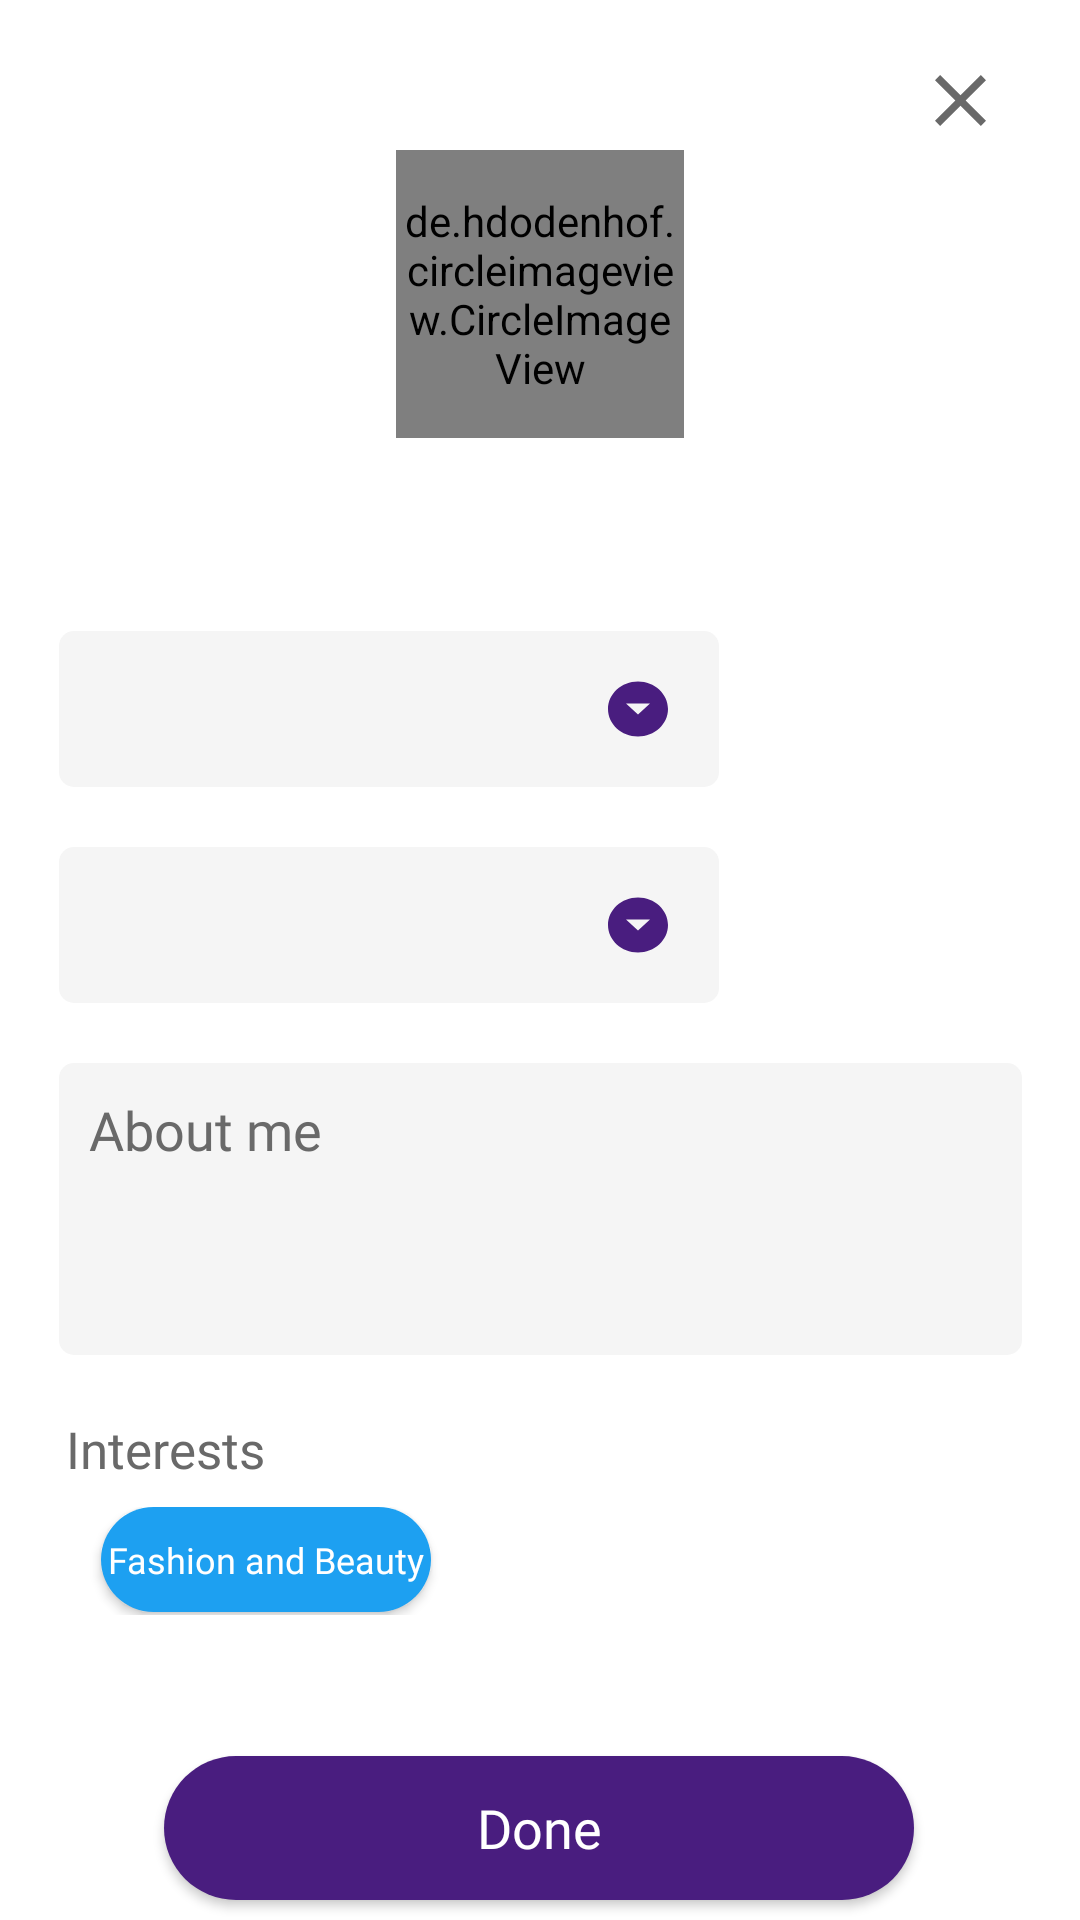

Where to tap for icons on this 1080px x 1920px app screen, as point (x, y):
close: point (960, 100)
